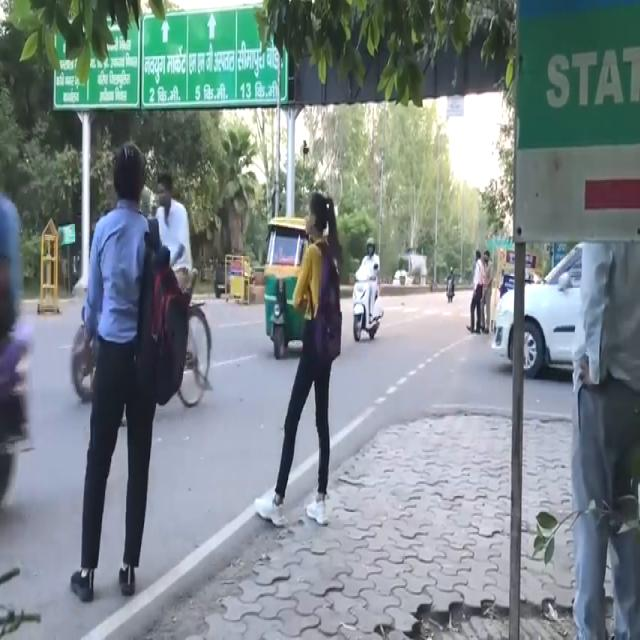MOTORCYCLE: (353, 267, 379, 344)
